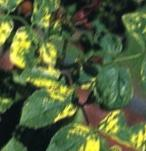Tomato leaf mosaic virus: (16, 79, 82, 147), (87, 57, 144, 116), (49, 117, 103, 151), (19, 0, 69, 36), (108, 13, 146, 52), (89, 27, 129, 61), (130, 45, 146, 91)
